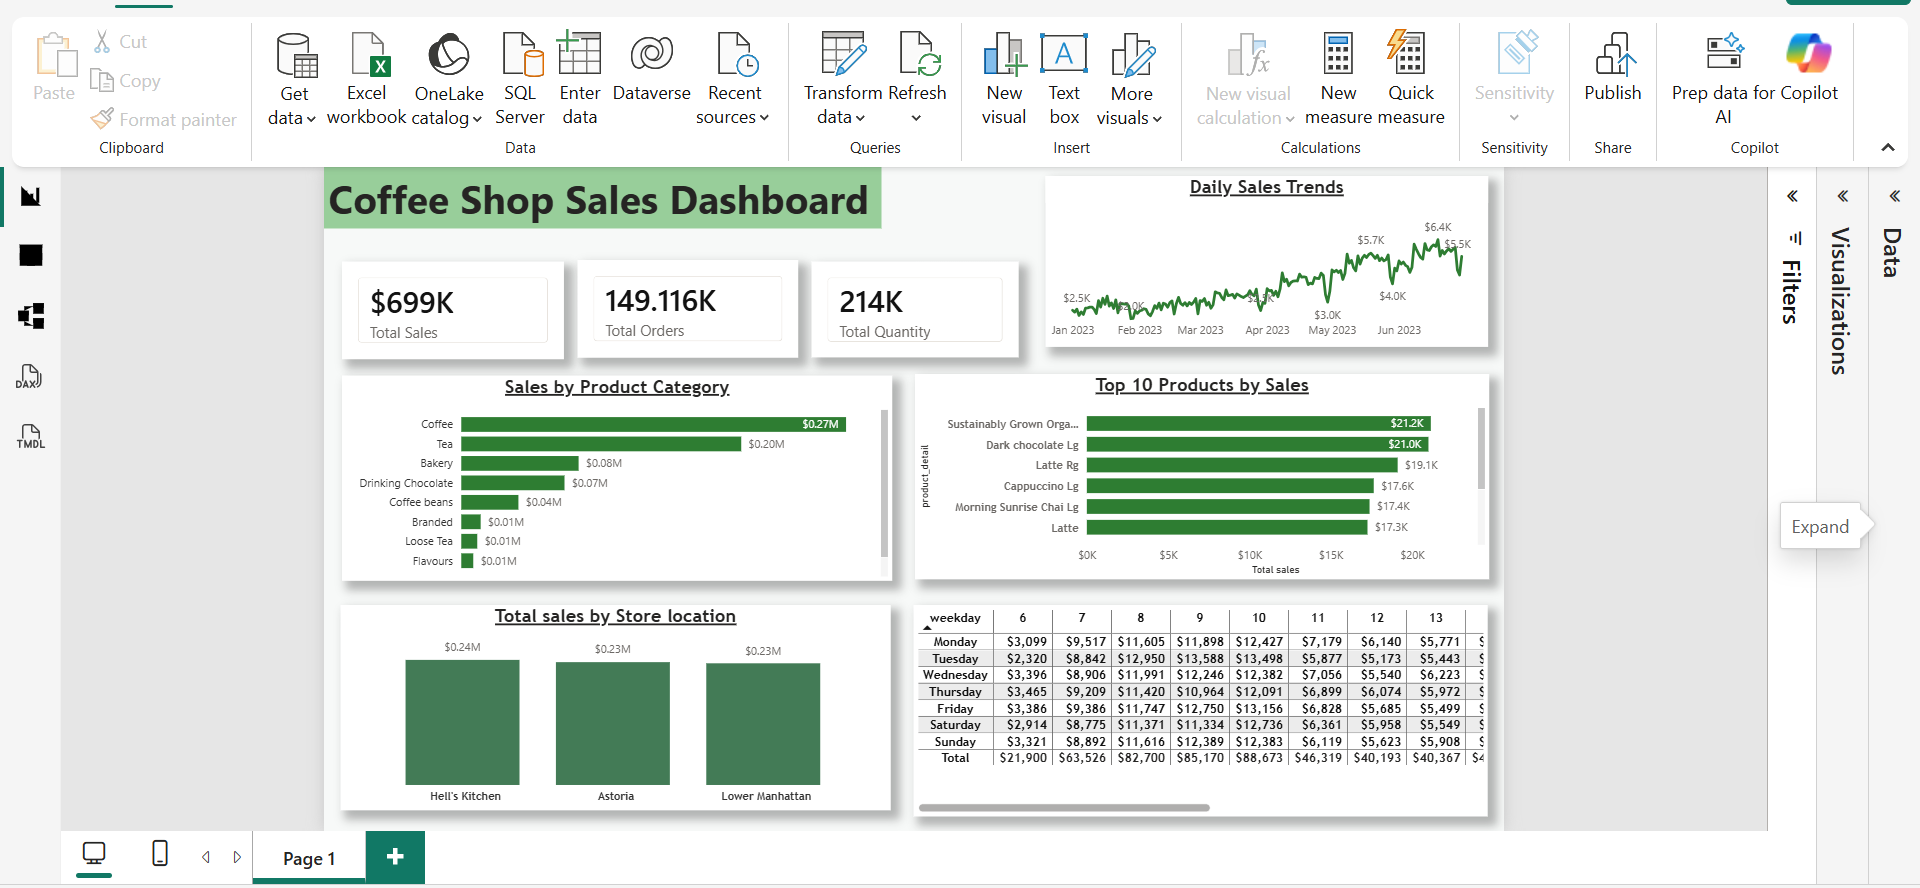

Layout of this report page (visuals, bound fields, positions):
{"tool":"powerbi","page":{"name":"Page 1","canvas":[1280,720],"ordinal":0},"visuals":[{"type":"shape","box":[0,0,604.5,66.7],"z":0},{"type":"cardVisual","fields":{"Data":["Transactions.Total sales"]},"box":[19.5,102.5,240.7,105.7],"z":1000},{"type":"textbox","box":[0,0,604.5,66.7],"z":3000},{"type":"lineChart","title":"Daily Sales Trends","fields":{"Y":["Transactions.Total sales"],"Category":["Date Table.Date.Variation.Date Hierarchy.Year","Date Table.Date.Variation.Date Hierarchy.Quarter","Date Table.Date.Variation.Date Hierarchy.Month","Date Table.Date.Variation.Date Hierarchy.Day"]},"box":[782.4,9.4,480,185.2],"z":4000},{"type":"cardVisual","fields":{"Data":["CountNonNull(Transactions.transaction_id)"]},"box":[274.9,100.8,239.1,105.7],"z":5000},{"type":"cardVisual","fields":{"Data":["Sum(Transactions.transaction_qty)"]},"box":[528.6,102.5,224.5,104.1],"z":6000},{"type":"clusteredBarChart","title":"Sales by Product Category","fields":{"Category":["Transactions.product_category"],"Y":["Transactions.Total sales"]},"box":[19.5,226.1,596.9,222.8],"z":7000},{"type":"clusteredBarChart","title":"Top 10 Products by Sales","fields":{"Category":["Transactions.product_detail"],"Y":["Transactions.Total sales"]},"box":[640.9,224.5,623,222.8],"z":8000},{"type":"clusteredColumnChart","title":"Total sales by Store location","fields":{"Category":["Transactions.store_location"],"Y":["Transactions.Total sales"]},"box":[17.9,475,596.9,222.8],"z":9000},{"type":"pivotTable","fields":{"Rows":["Date Table.weekday"],"Columns":["Transactions.Hour"],"Values":["Transactions.Total sales"]},"box":[639.2,475,623,229.3],"z":10000}]}

Visuals, with their boxes on the page's 1280x720 design canvas (x1, y1, x2, y2). These are canvas units, not pixel positions in the 1920x888 screenshot, which may show the page scaled, cropped or inside an application window:
shape: 0 0 604 67
cardVisual - Transactions.Total sales: 20 102 260 208
textbox: 0 0 604 67
"Daily Sales Trends" lineChart: 782 9 1262 195
cardVisual - CountNonNull(Transactions.transaction_id): 275 101 514 206
cardVisual - Sum(Transactions.transaction_qty): 529 102 753 207
"Sales by Product Category" clusteredBarChart: 20 226 616 449
"Top 10 Products by Sales" clusteredBarChart: 641 224 1264 447
"Total sales by Store location" clusteredColumnChart: 18 475 615 698
pivotTable - Date Table.weekday x Transactions.Hour: 639 475 1262 704
